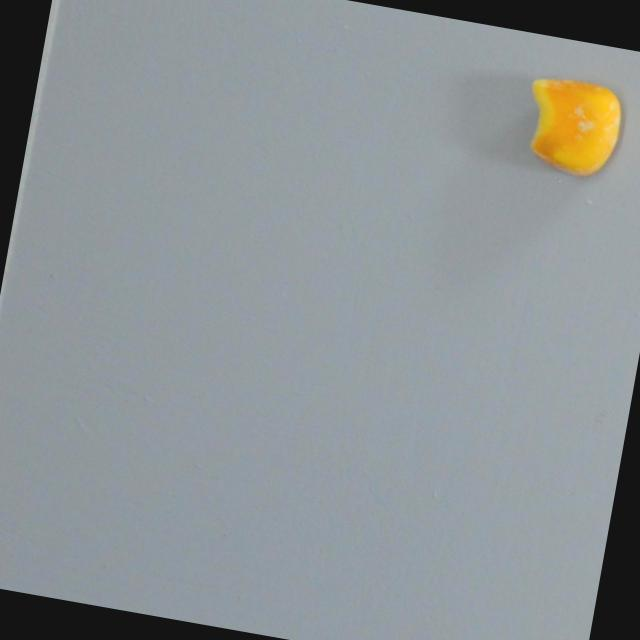pelicula: (516, 70, 628, 182)
